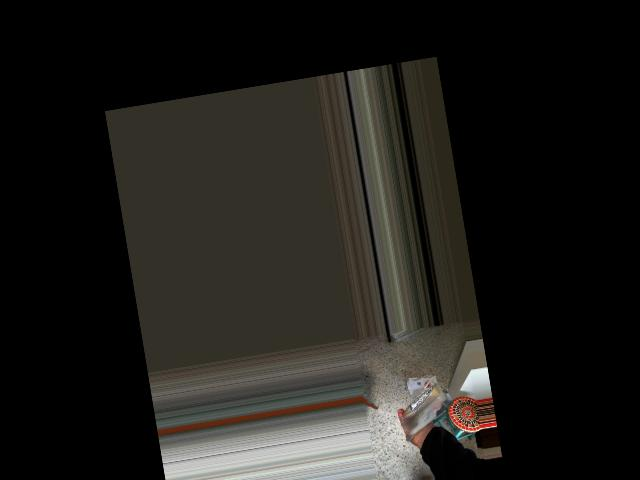cheese: (388, 363, 474, 447)
